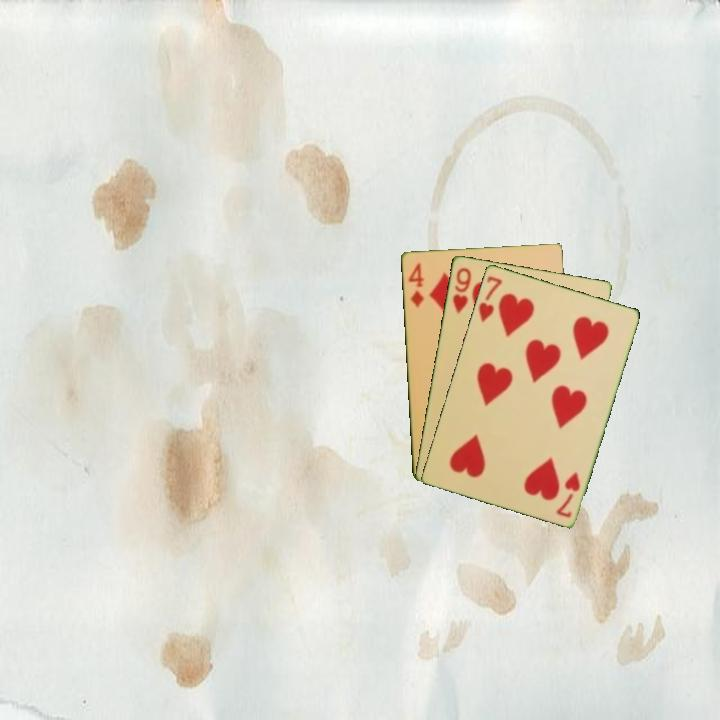4d: (405, 259, 426, 309)
7h: (552, 468, 583, 520), (475, 272, 505, 325)
9h: (449, 264, 474, 316)
